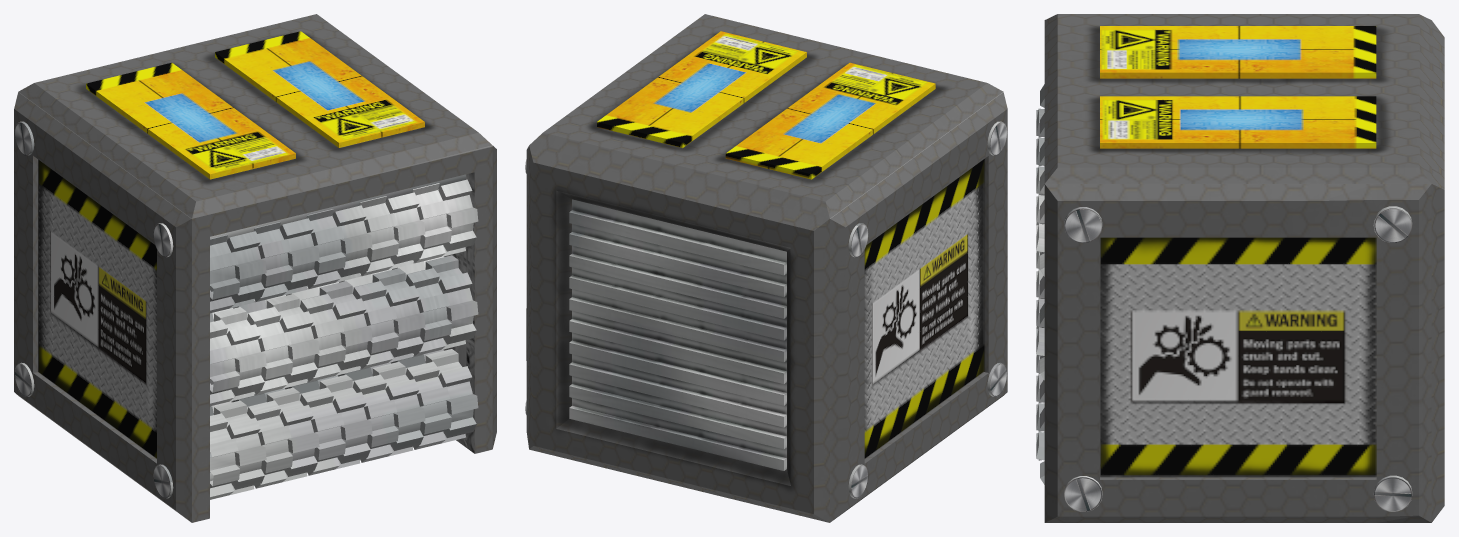
The model's file is Crusher.fbx.
The picture shows the model from 3 angles, left to right: view 1: azimuth 30°, elevation 25°; view 2: azimuth 150°, elevation 25°; view 3: azimuth 270°, elevation 25°; orthographic projection. The views are drawn at different scales.
Parts seen in each view (by area): view 1: Box001; view 2: Box001; view 3: Box001.
Part boxes in pixels (x1,y1,x2,y2): Box001: (14,14,496,522); Box001: (525,14,1007,522); Box001: (1036,14,1444,522).
Size of the model in its own units: 65 by 61 by 63.29.
Materials: 1 (1 with a texture image).
